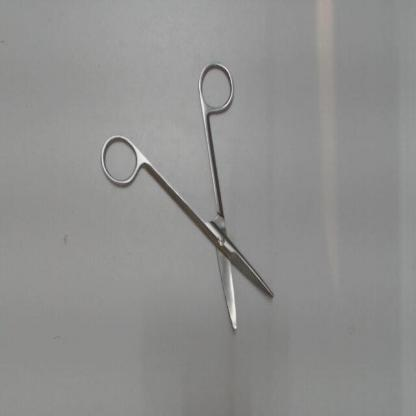Curved Mayo Scissors: (93, 54, 279, 348)
